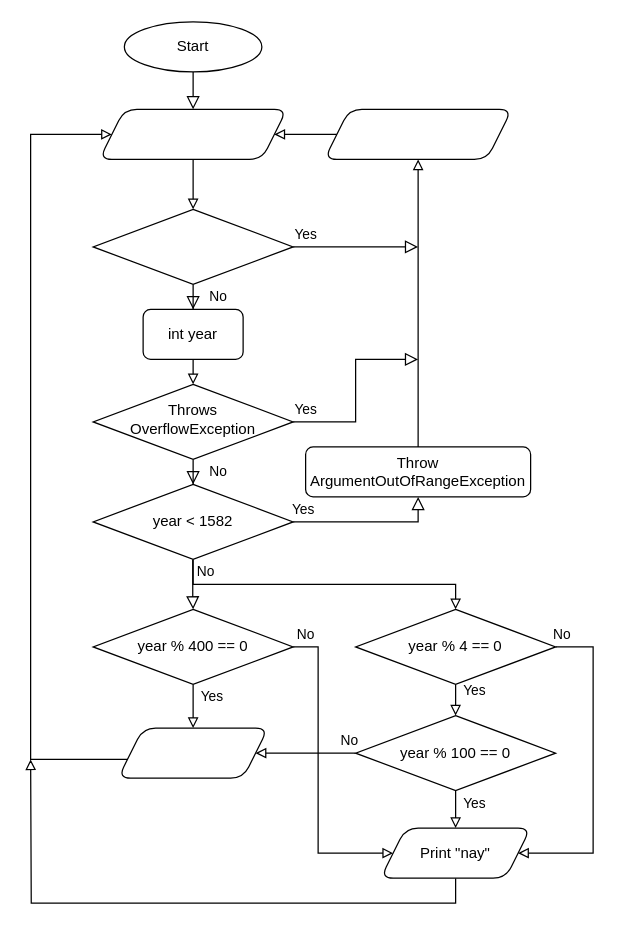
This 625x935 diagram has some shape labels left out. Here are the shapes that lost their labels. From the top down, the box of each, then its label:
(98, 108, 287, 159): User Input
(323, 108, 512, 159): Print Error Message
(92, 208, 293, 284): Throws FormatException
(117, 727, 268, 778): Print "yay"
